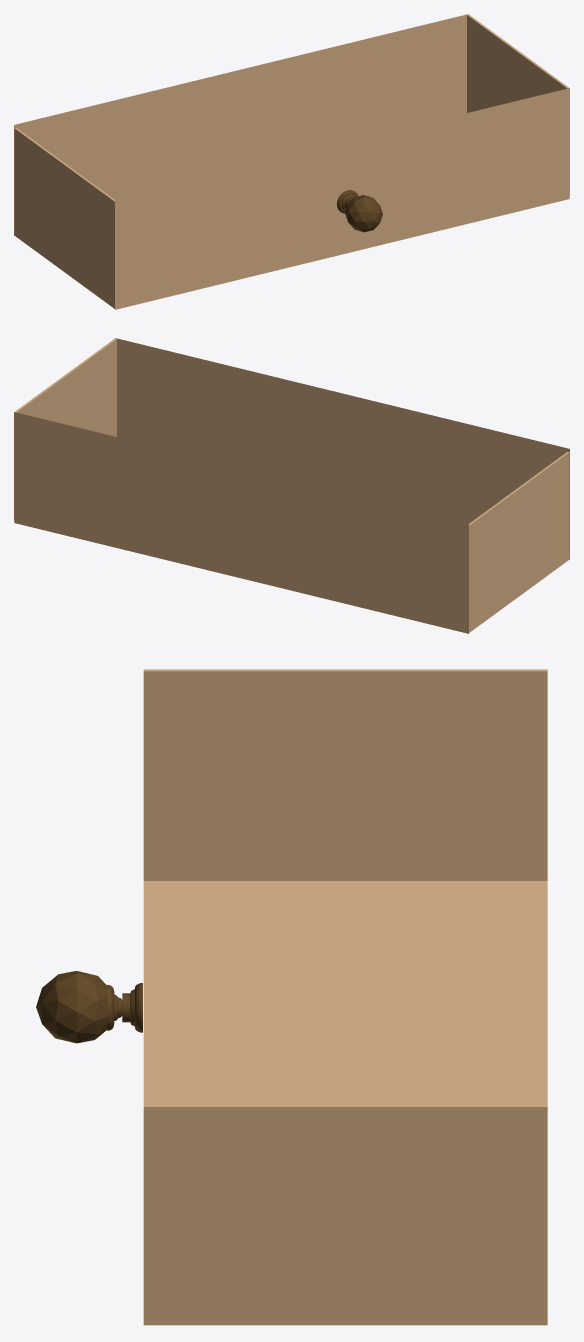
The model's file is cajon.obj.
The picture shows the model from 3 angles, top to bottom: view 1: azimuth 30°, elevation 25°; view 2: azimuth 150°, elevation 25°; view 3: azimuth 270°, elevation 25°; orthographic projection. The views are drawn at different scales.
Parts seen in each view (by area): view 1: polySurface125; view 2: polySurface125; view 3: polySurface125.
Boxes of the visible parts, bbox=[...] form: polySurface125: bbox=[14, 14, 569, 309]; polySurface125: bbox=[14, 338, 569, 633]; polySurface125: bbox=[36, 669, 547, 1325].
Size of the model in its own units: 0.9652 by 0.225 by 0.4703.
3 materials, 3 textured.
